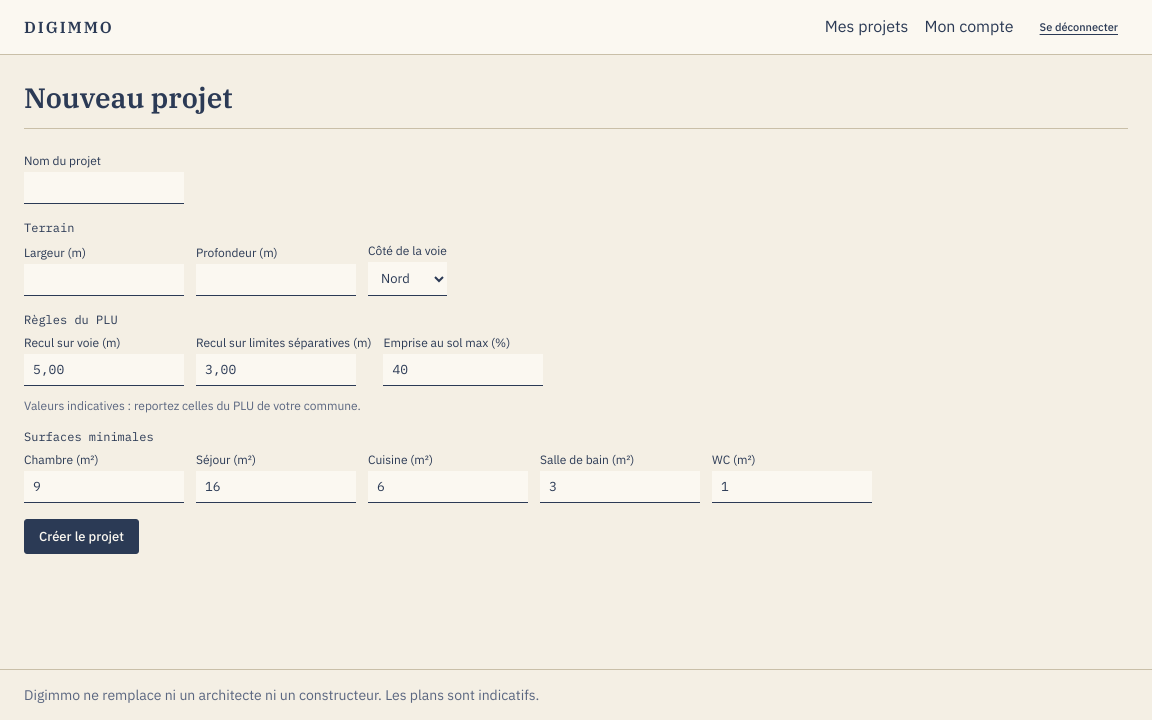
Test case: nouveau projet › 400 avec issues : affichées
The image size is (1152, 720).
Type "Maison" into the field labelled "Nom du projet" at (104, 188), box [24, 172, 184, 204]
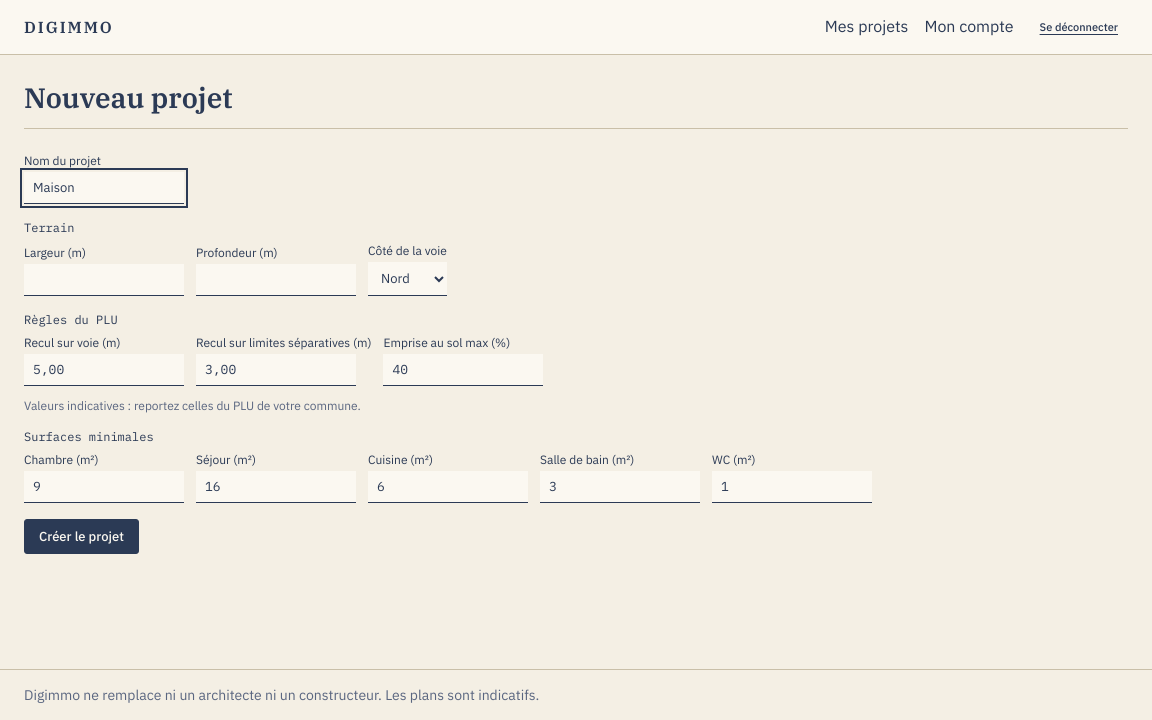
Type "20" into the field labelled "Largeur (m)" at (104, 280), box [24, 264, 184, 296]
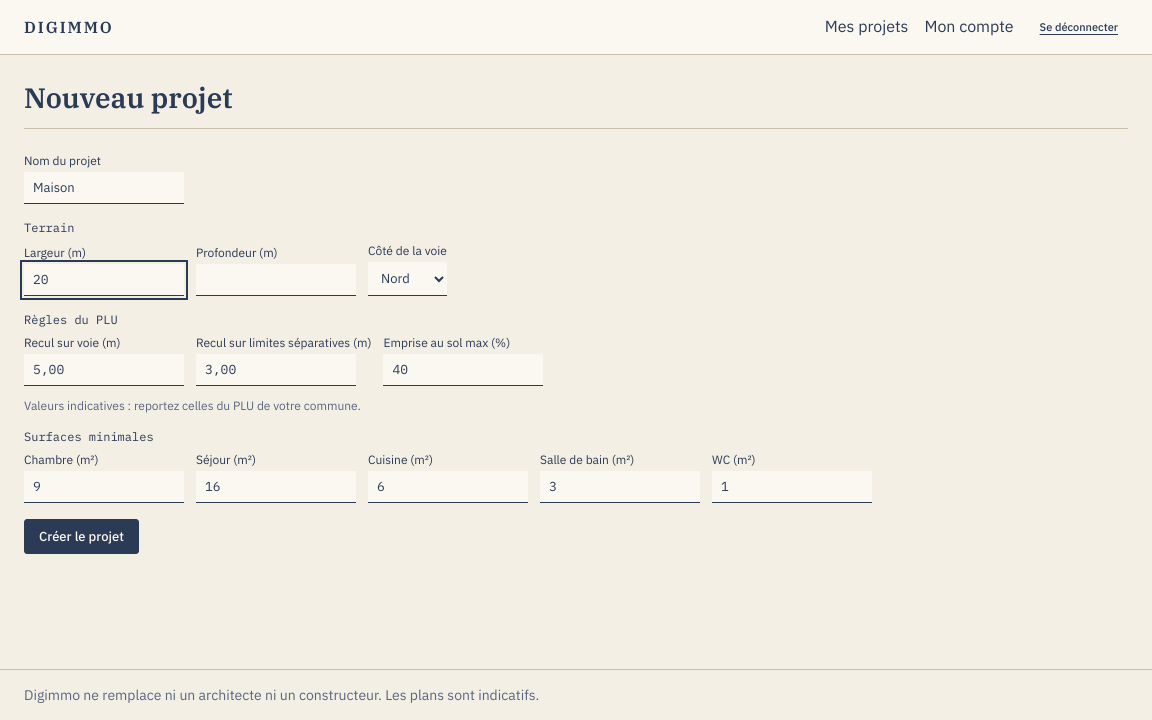
Type "30" into the field labelled "Profondeur (m)" at (276, 280), box [196, 264, 356, 296]
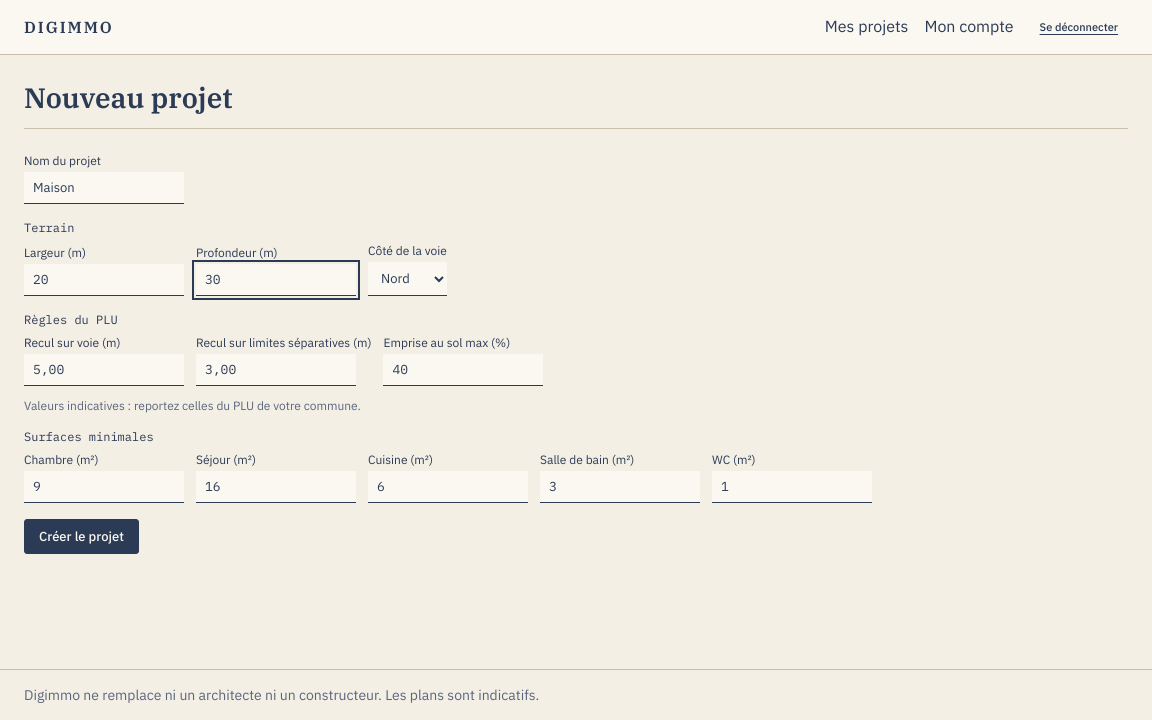
Click the button "Créer le projet" at (82, 536), box [24, 519, 139, 554]
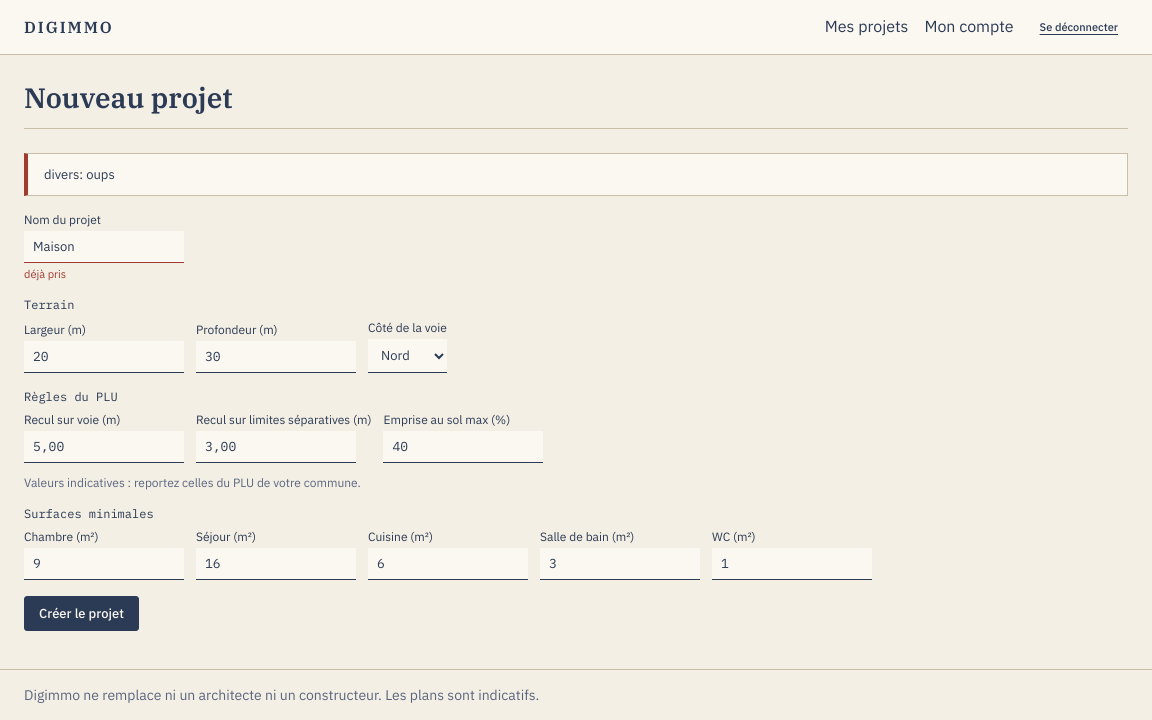
Result: the text "déjà pris" is shown at [24, 267, 66, 281]
Result: the message reads "divers: oups" at [44, 166, 115, 183]
